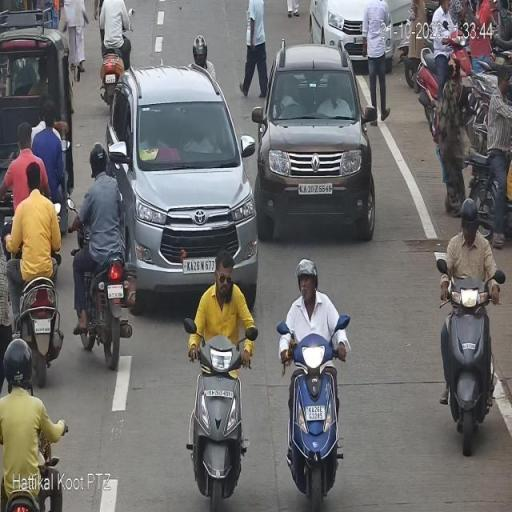using mobile: (222, 273, 236, 309)
